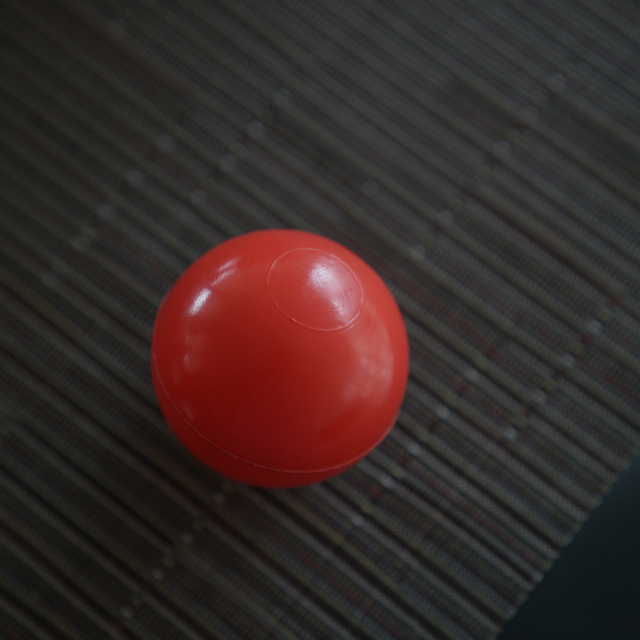Ball: (151, 229, 411, 490)
